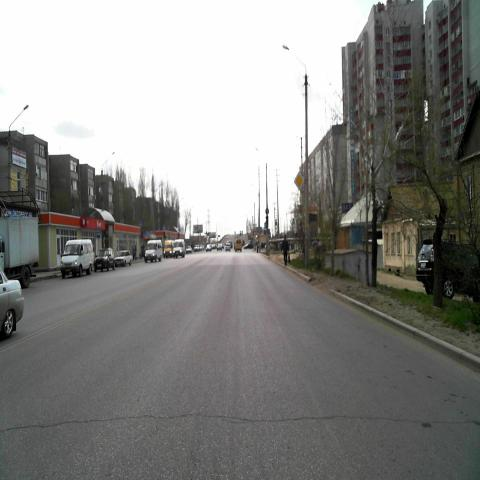2_1: (294, 171, 305, 191)
